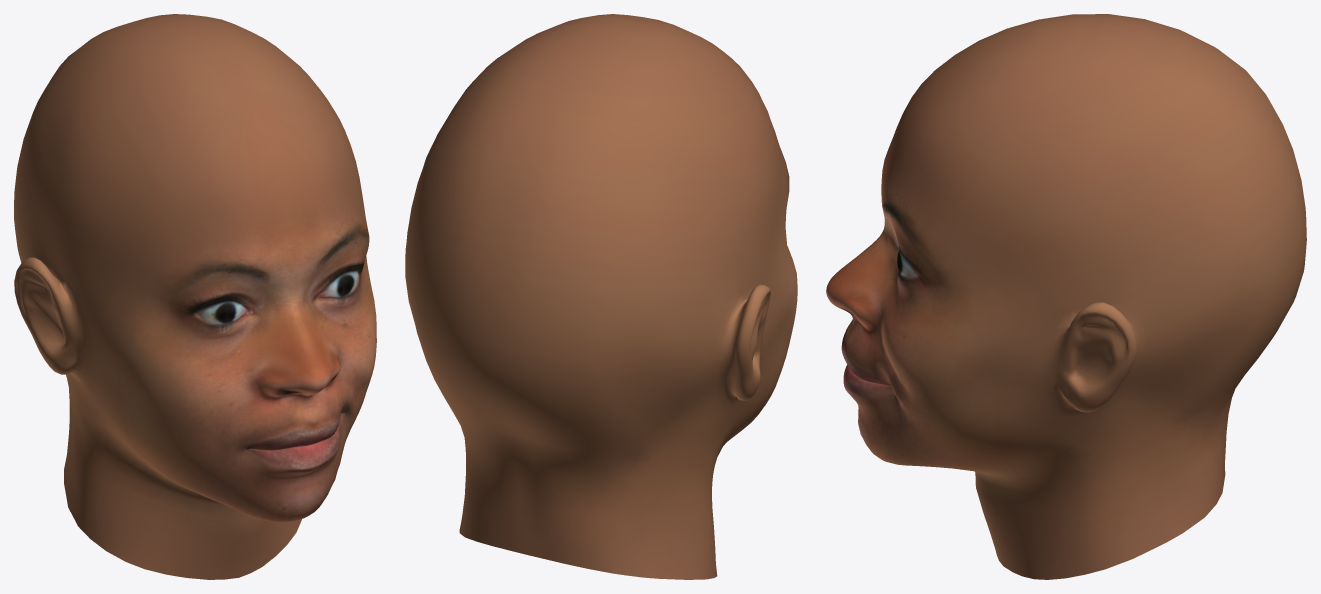
File: v332_obj_ModifierDimpler(AU14)Left.obj
The picture shows the model from 3 angles, left to right: view 1: azimuth 30°, elevation 25°; view 2: azimuth 150°, elevation 25°; view 3: azimuth 270°, elevation 25°; orthographic projection. The views are drawn at different scales.
Parts seen in each view (by area): view 1: HeadHires; view 2: HeadHires; view 3: HeadHires.
Boxes of the visible parts, box(x1,y1,x2,y2) form: HeadHires: box(14, 14, 376, 579); HeadHires: box(405, 14, 797, 579); HeadHires: box(826, 14, 1306, 579).
Size of the model in its own units: 187 by 282 by 233.
